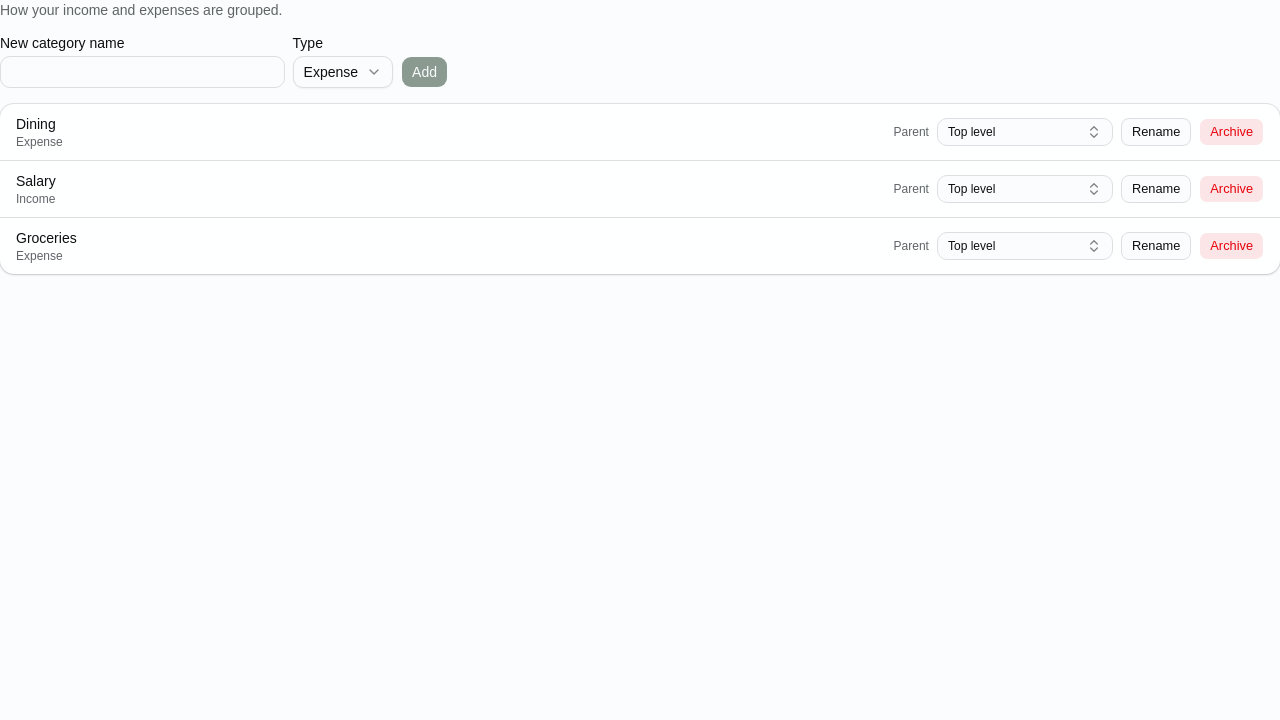
it: CategoriesSettings › only offers same-kind categories as a Parent option
This screenshot has width=1280, height=720.
Click the dropdown named "Parent" at (1025,132), box left=937, top=118, right=1113, bottom=146
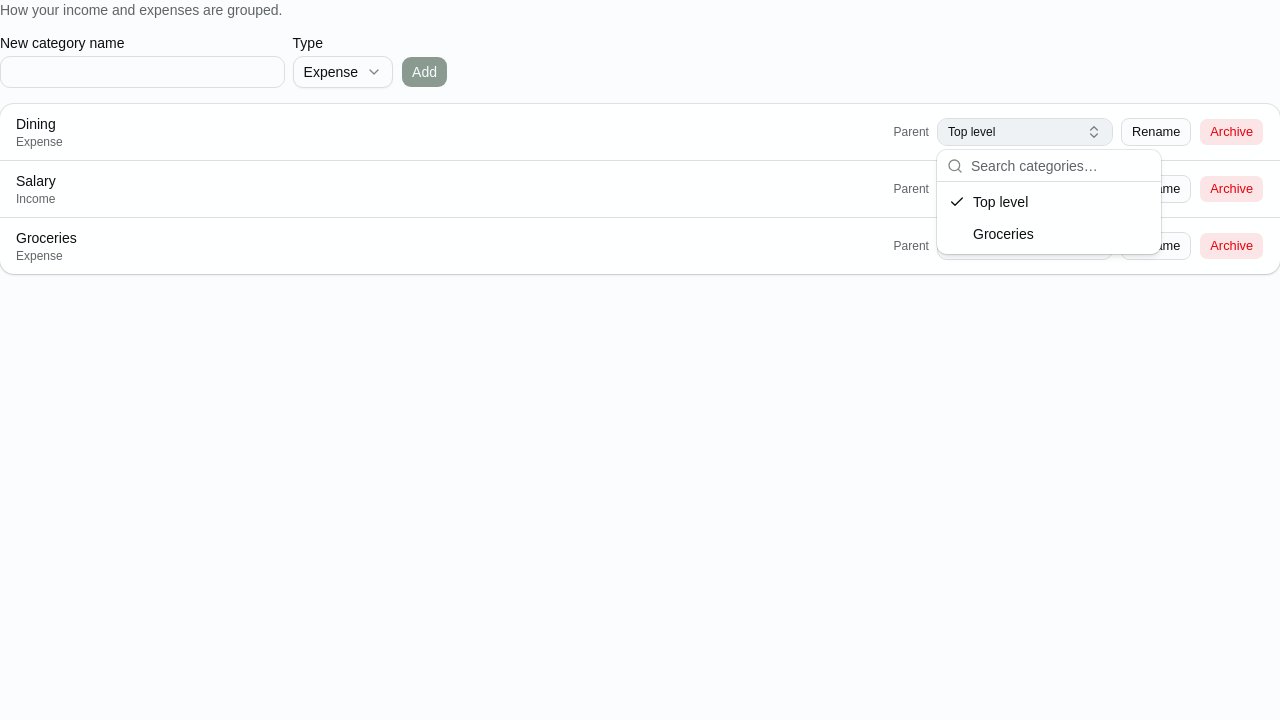
Result: the option "Top level" is shown at left=949, top=194, right=1028, bottom=210
Result: the option "Groceries" is shown at left=973, top=226, right=1034, bottom=242
